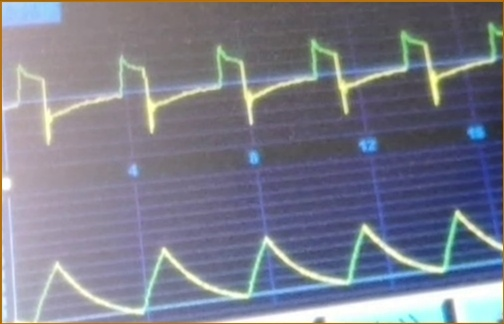Normal Flow: (5, 21, 504, 146)
Normal Volume: (35, 207, 500, 319)
